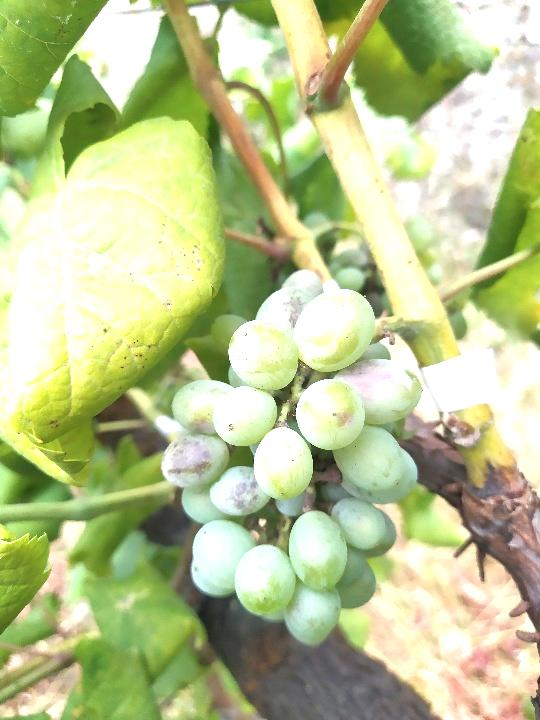grape: (158, 265, 426, 651)
